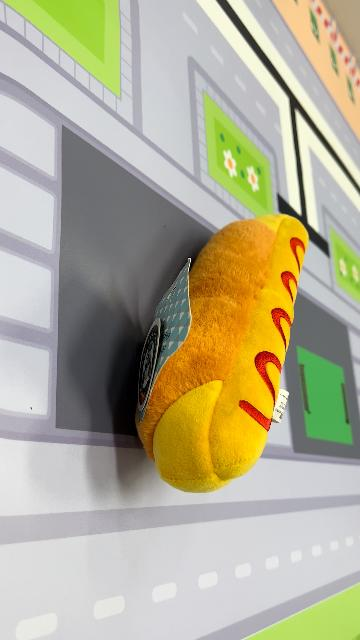hotdog: (134, 212, 310, 494)
